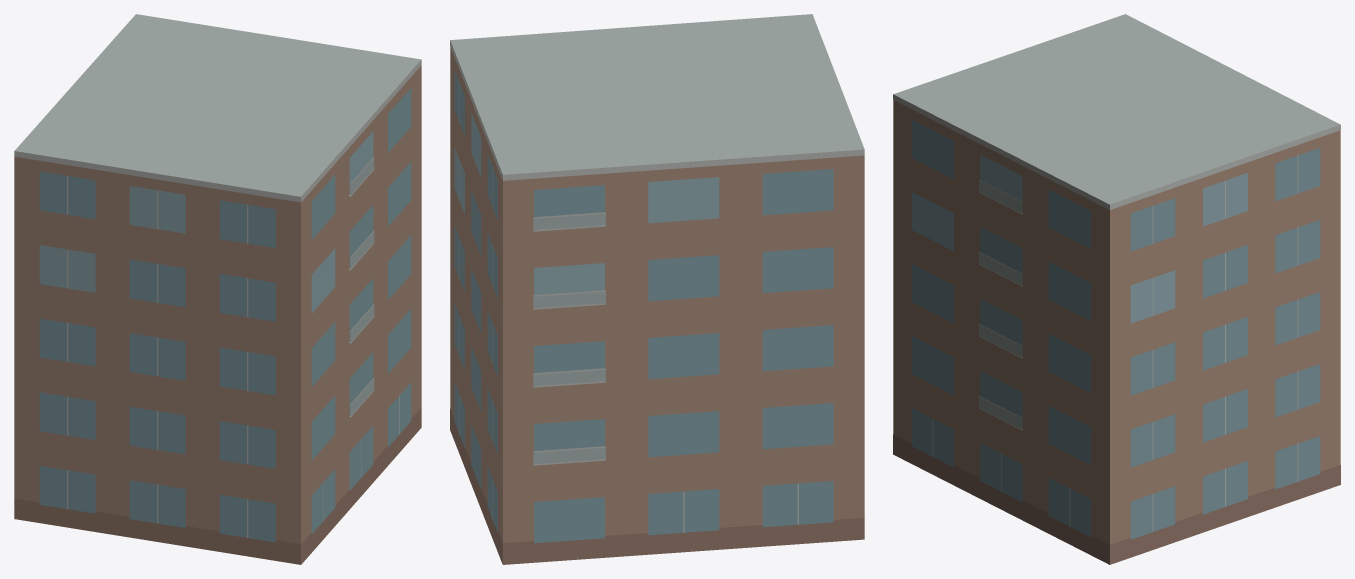
The model's file is survey-upis-32981121.glb.
3 renders of one model, left to right at view 1: azimuth 30°, elevation 25°; view 2: azimuth 150°, elevation 25°; view 3: azimuth 270°, elevation 25°, orthographic. The views are drawn at different scales.
Visible parts, largest first — view 1: survey-upis-32981121.tmp; view 2: survey-upis-32981121.tmp; view 3: survey-upis-32981121.tmp.
Part boxes in pixels (left/top/right/bottom): survey-upis-32981121.tmp: left=14, top=14, right=421, bottom=564; survey-upis-32981121.tmp: left=450, top=14, right=864, bottom=564; survey-upis-32981121.tmp: left=893, top=14, right=1340, bottom=564.
Size of the model in its own units: 18.17 by 16 by 18.03.
